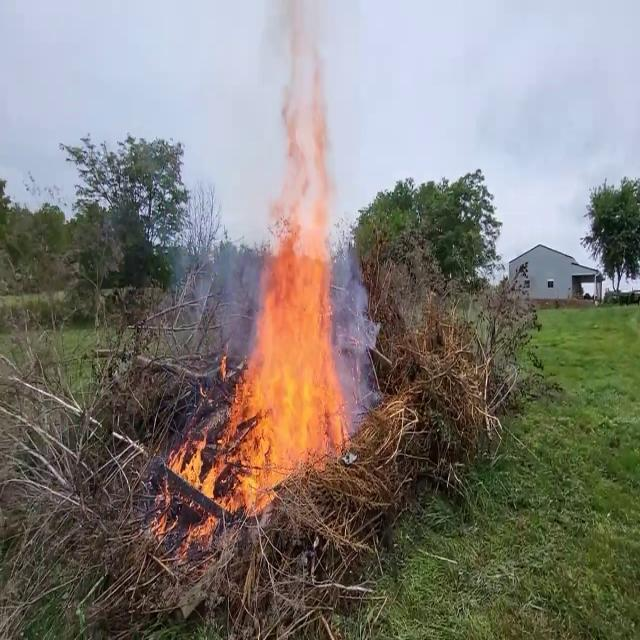Fire: (164, 163, 356, 522)
